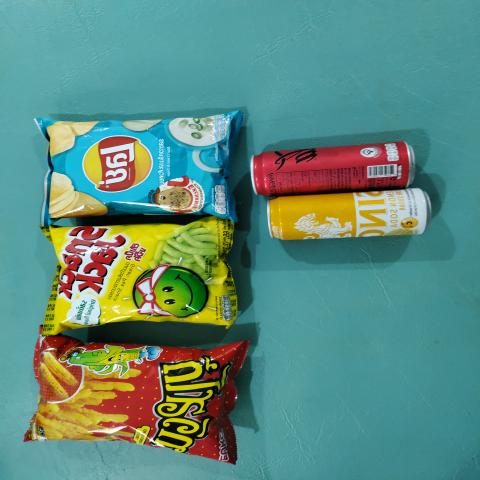coke_red: (248, 149, 422, 186)
lay_blue: (54, 112, 223, 211)
singha_yellow: (273, 198, 426, 238)
snack_jack: (58, 224, 220, 318)
twisco: (45, 352, 234, 438)
